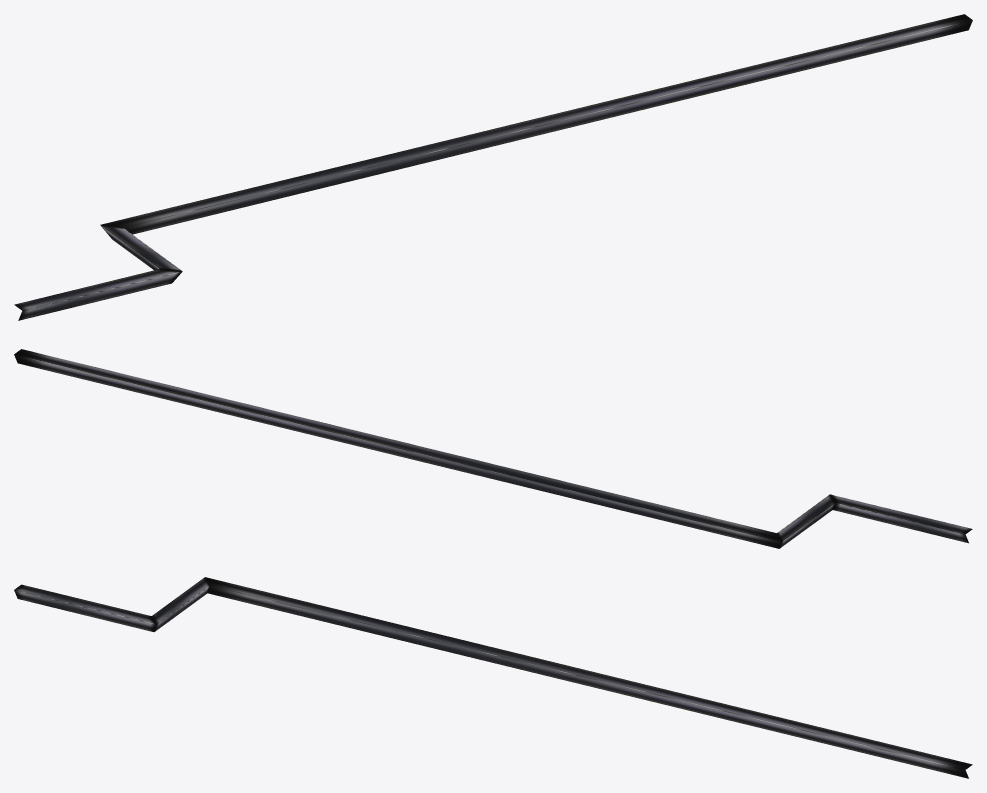
3 renders of one model, top to bottom at view 1: azimuth 30°, elevation 25°; view 2: azimuth 150°, elevation 25°; view 3: azimuth 330°, elevation 25°, orthographic. The views are drawn at different scales.
Visible parts, largest first — view 1: Cylinder07; view 2: Cylinder07; view 3: Cylinder07.
Boxes of the visible parts, box(x1,y1,x2,y2) form: Cylinder07: box(14, 14, 972, 320); Cylinder07: box(14, 349, 972, 548); Cylinder07: box(14, 577, 972, 778).
Size of the model in its own units: 3538 by 43.88 by 416.
1 material, 1 textured.
